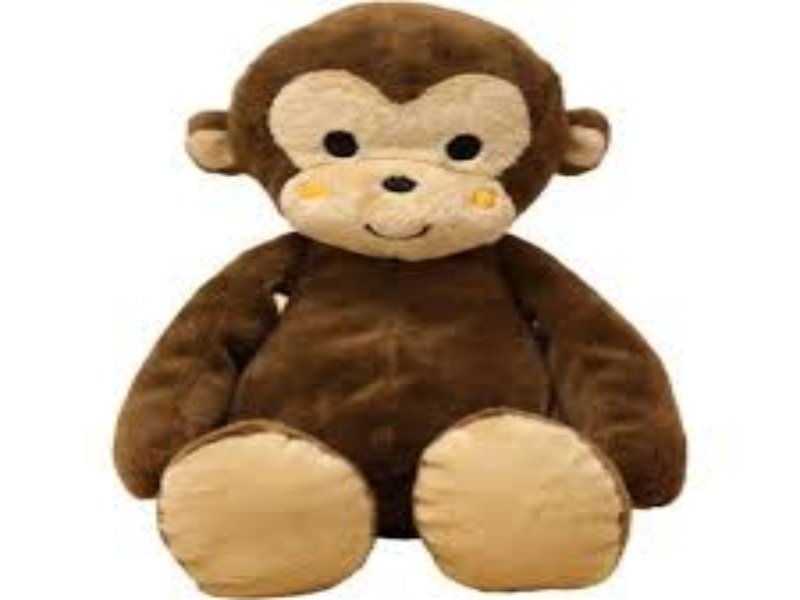monkey: (117, 7, 681, 593)
